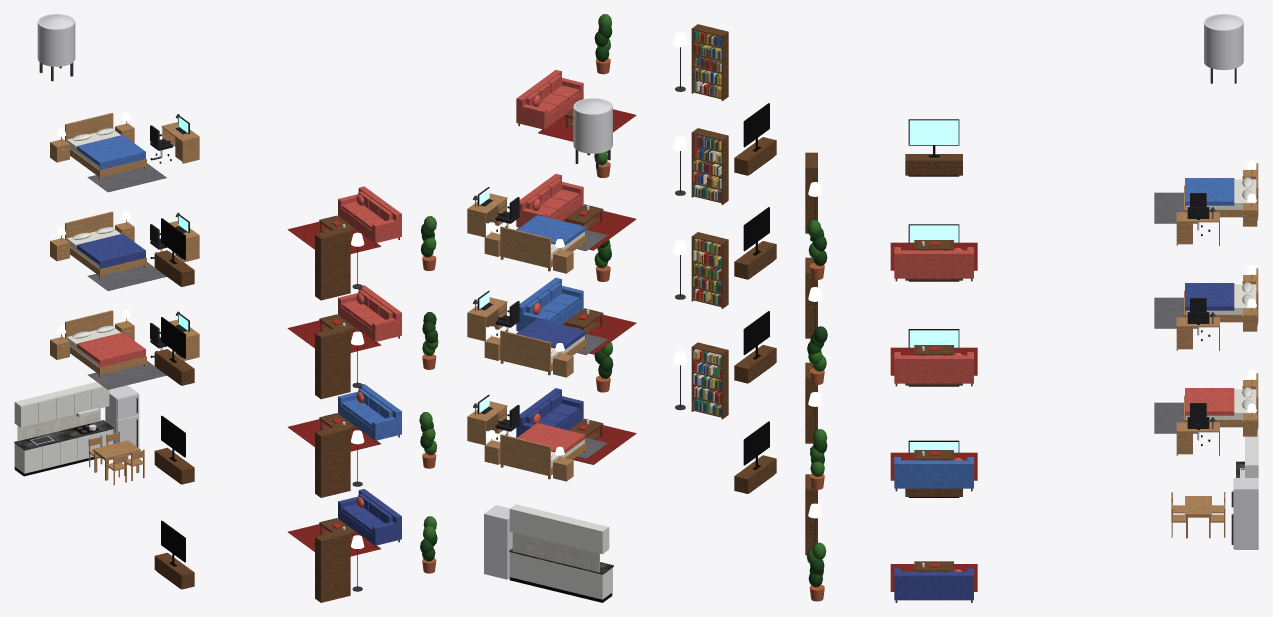
Rendered from i_nyc_brownstone.gltf.
3 views of the same model, side by side, from view 1: azimuth 30°, elevation 25°; view 2: azimuth 150°, elevation 25°; view 3: azimuth 270°, elevation 25° (orthographic). The views are drawn at different scales.
Parts seen in each view (by area): view 1: I_nyc_brownstone; view 2: I_nyc_brownstone; view 3: I_nyc_brownstone.
Part boxes in pixels (<box>): I_nyc_brownstone: <box>14,14,438,602</box>; I_nyc_brownstone: <box>467,14,776,602</box>; I_nyc_brownstone: <box>805,14,1258,602</box>.
Bounding box in the file's own units: 7.33 × 14.8 × 12.51.
30 materials, 11 textured.
